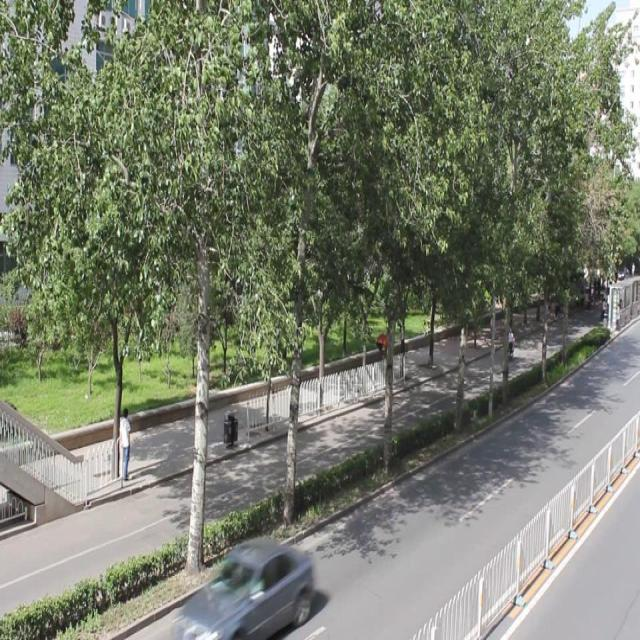car: (182, 537, 311, 640)
